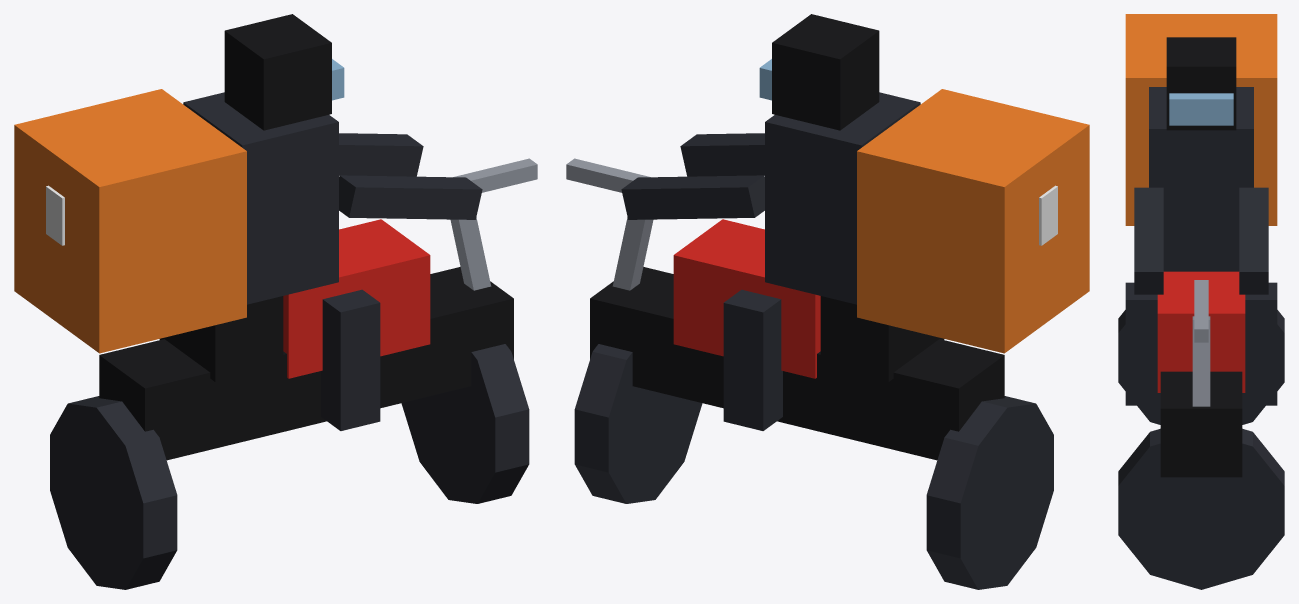
Rendered from moto_delivery.obj.
3 views of the same model, side by side, from view 1: azimuth 30°, elevation 25°; view 2: azimuth 150°, elevation 25°; view 3: azimuth 270°, elevation 25° (orthographic). The views are drawn at different scales.
Visible parts, largest first — view 1: moto_delivery; view 2: moto_delivery; view 3: moto_delivery.
Boxes of the visible parts, <box> form: moto_delivery: <box>14,14,537,589</box>; moto_delivery: <box>566,14,1089,589</box>; moto_delivery: <box>1118,14,1284,589</box>.
Bounding box in the file's own units: 1.69 × 1.7 × 0.5706.
